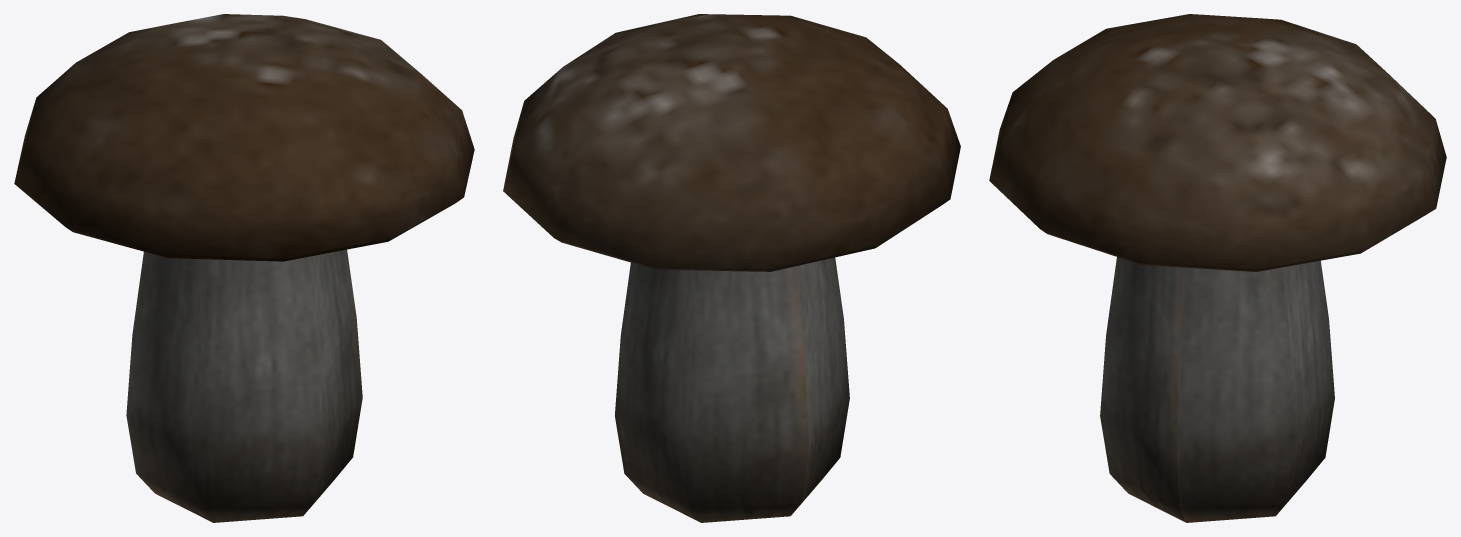
The model's file is mushroom_n_2.obj.
The picture shows the model from 3 angles, left to right: view 1: azimuth 30°, elevation 25°; view 2: azimuth 150°, elevation 25°; view 3: azimuth 270°, elevation 25°; orthographic projection.
Parts seen in each view (by area): view 1: mushroom_n_2; view 2: mushroom_n_2; view 3: mushroom_n_2.
Part boxes in pixels (<box>): mushroom_n_2: <box>14,14,474,522</box>; mushroom_n_2: <box>503,14,960,522</box>; mushroom_n_2: <box>989,14,1446,522</box>.
Size of the model in its own units: 0.2729 by 0.288 by 0.2729.
